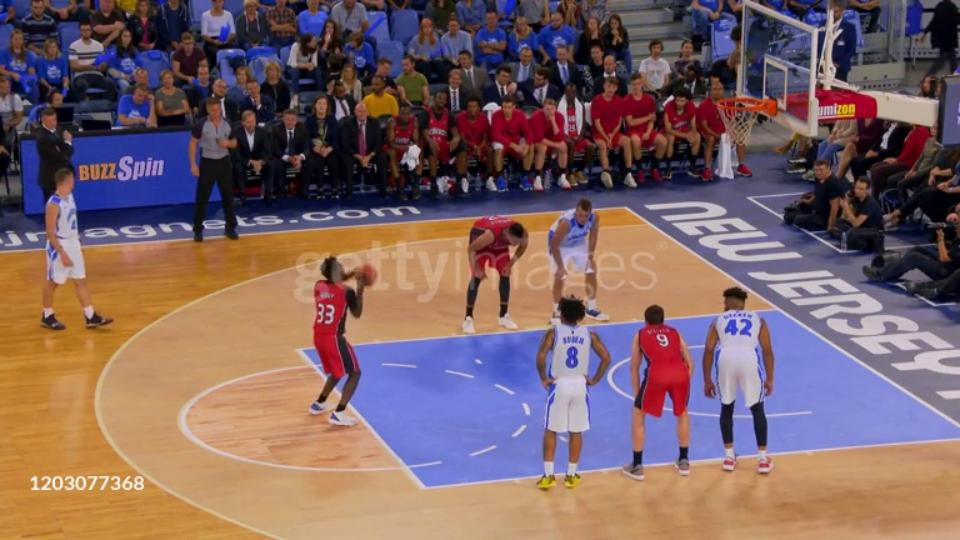hoop: (717, 94, 784, 119)
